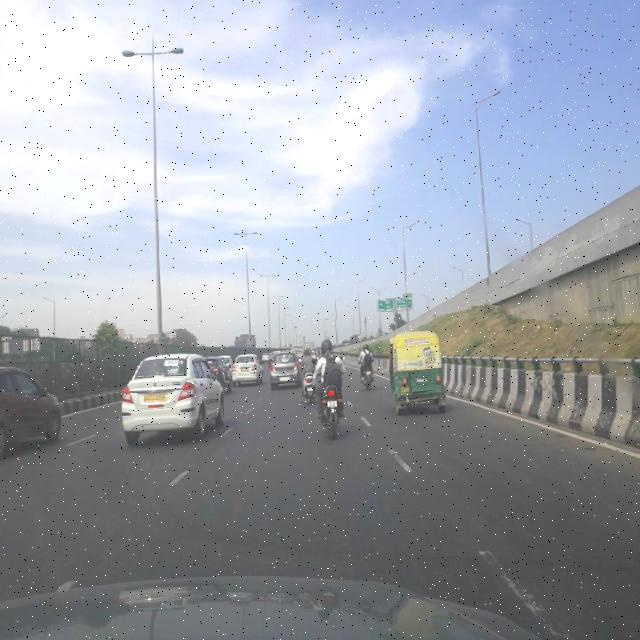D44: (474, 532, 562, 630)
